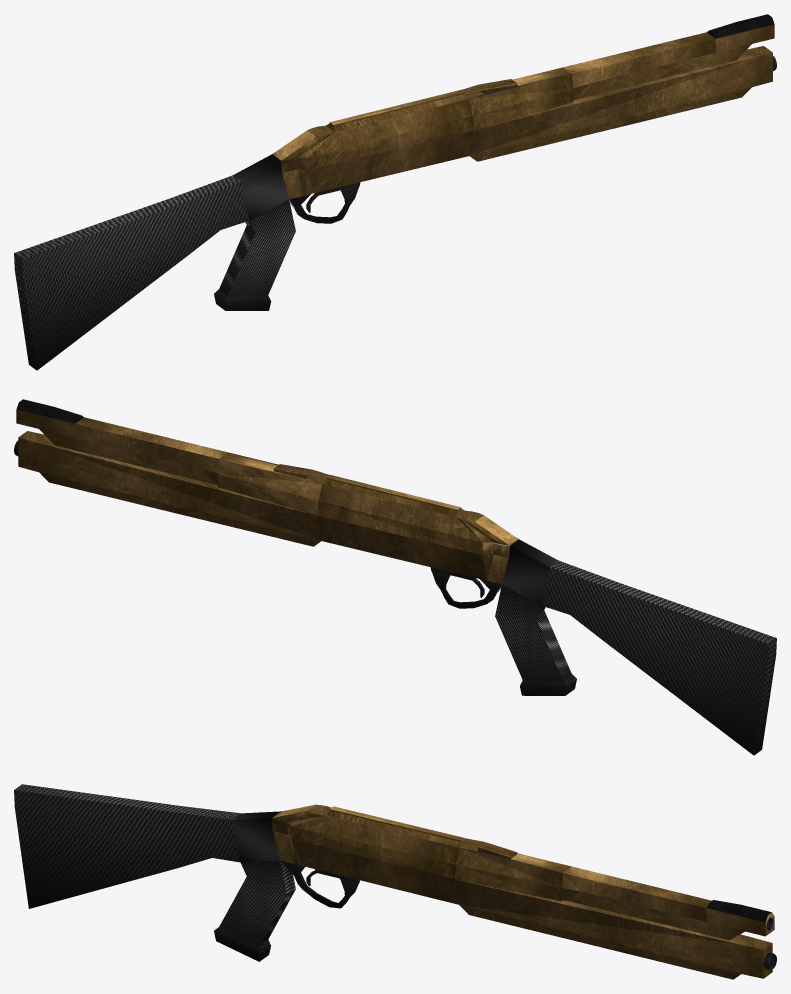
The model's file is Shotgun3.fbx.
The picture shows the model from 3 angles, top to bottom: view 1: azimuth 30°, elevation 25°; view 2: azimuth 150°, elevation 25°; view 3: azimuth 330°, elevation 25°; orthographic projection.
Parts seen in each view (by area): view 1: Shotgun; view 2: Shotgun; view 3: Shotgun.
Boxes of the visible parts, x1,y1,x2,y2 form: Shotgun: (14,14,776,370); Shotgun: (14,399,776,755); Shotgun: (14,784,776,979).
Bounding box in the file's own units: 17.42 × 3.79 × 0.7601.
4 materials, 3 textured.
